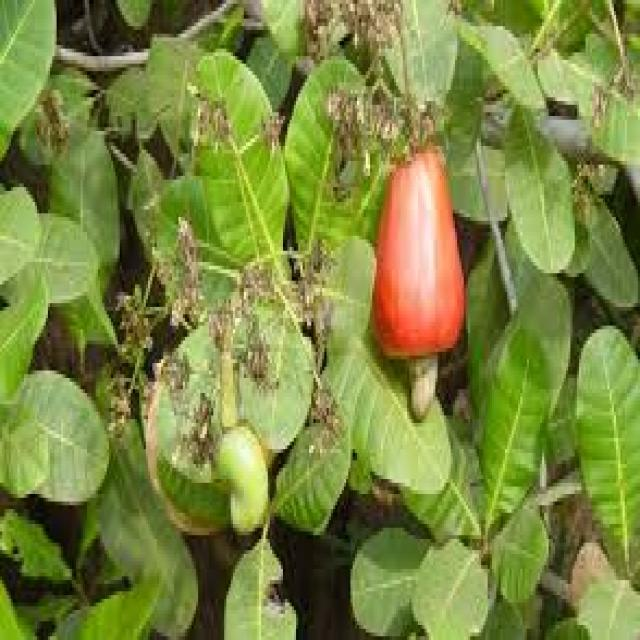cashew: (218, 424, 276, 538), (406, 352, 449, 428)
